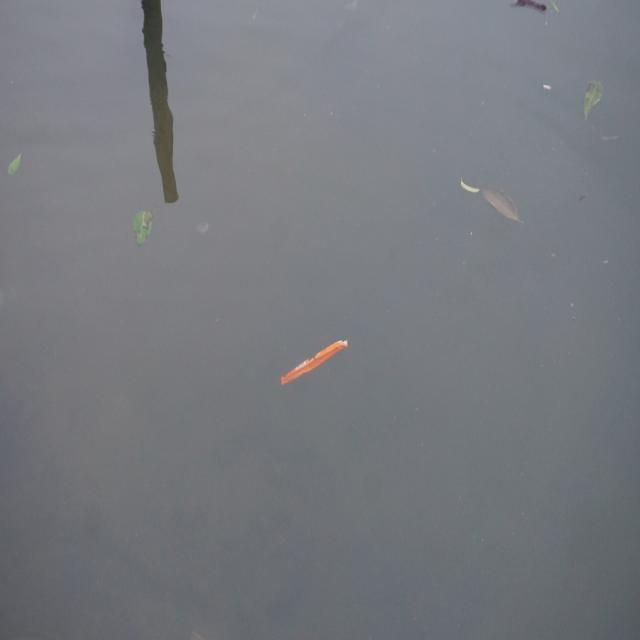Bungkus Makanan: (279, 336, 355, 390)
